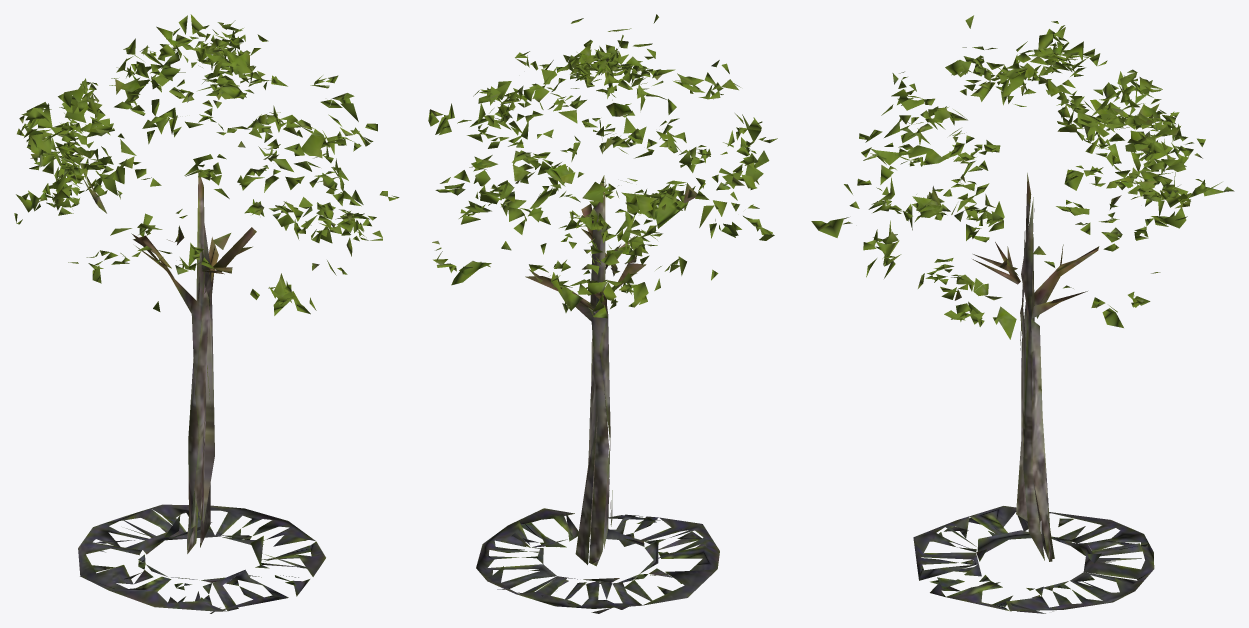
File: stadt_baum.glb
The picture shows the model from 3 angles, left to right: view 1: azimuth 30°, elevation 25°; view 2: azimuth 150°, elevation 25°; view 3: azimuth 270°, elevation 25°; orthographic projection.
Parts seen in each view (by area): view 1: Prop; view 2: Prop; view 3: Prop.
Boxes of the visible parts, x1=… form: Prop: x1=14, y1=14, x2=399, y2=613; Prop: x1=428, y1=14, x2=777, y2=613; Prop: x1=811, y1=15, x2=1234, y2=613.
Size of the model in its own units: 0.6122 by 1.01 by 0.7162.
Materials: 1 (1 with a texture image).
